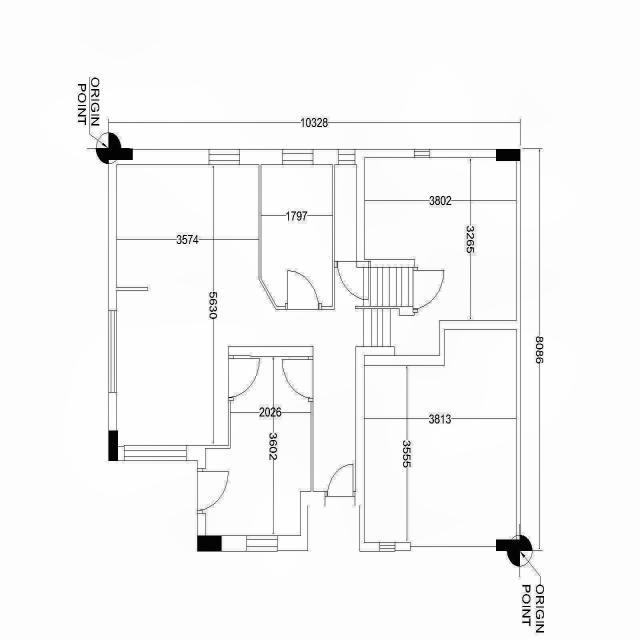Column: (197, 536, 222, 552), (496, 149, 520, 161), (496, 539, 520, 551), (109, 431, 118, 462), (109, 148, 132, 160)
Door: (284, 270, 322, 310), (334, 261, 371, 301), (197, 468, 229, 514), (282, 356, 314, 402), (412, 267, 444, 313), (228, 356, 260, 400), (324, 464, 356, 496)
Staircase: (335, 268, 413, 346)
Window: (124, 445, 186, 461), (108, 310, 117, 392), (246, 536, 278, 552), (282, 149, 314, 165), (209, 149, 240, 165), (338, 149, 356, 165), (380, 542, 396, 552), (414, 149, 430, 158)
